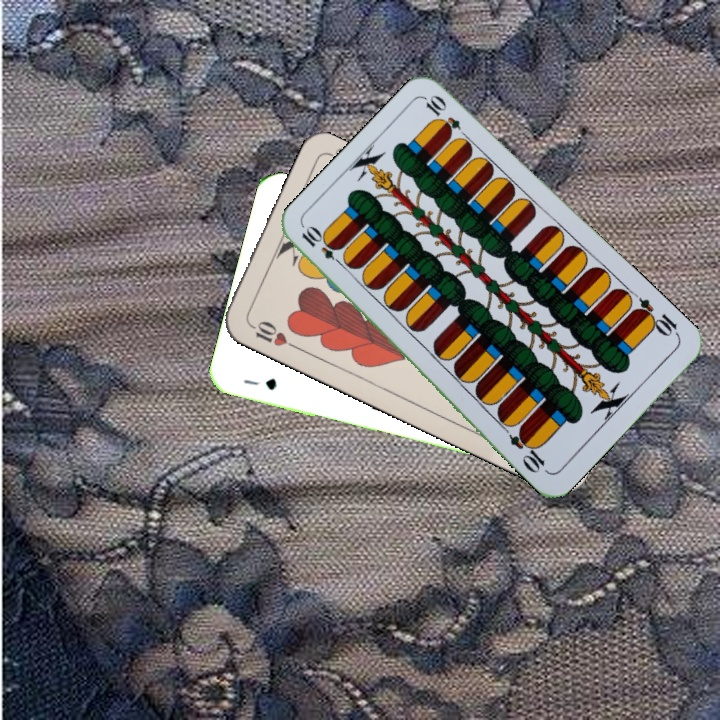E10: (629, 294, 682, 340), (297, 223, 348, 270)
GU: (240, 374, 279, 393)
H10: (244, 316, 299, 351)
